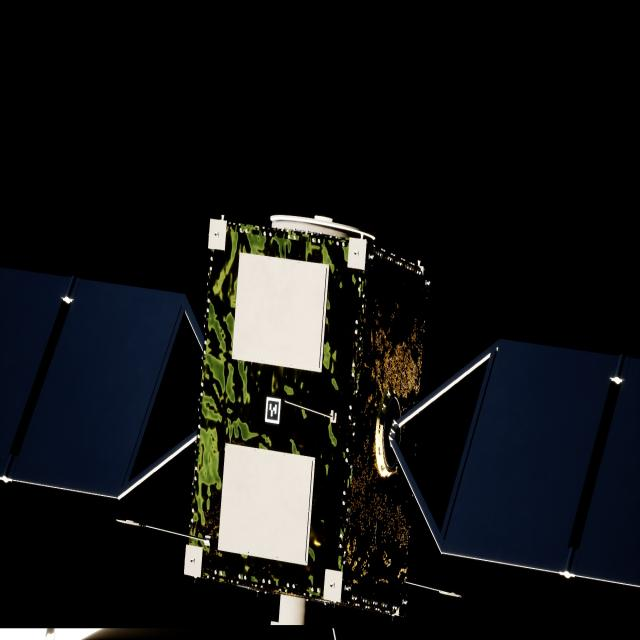medium_debris: (0, 216, 640, 618)
